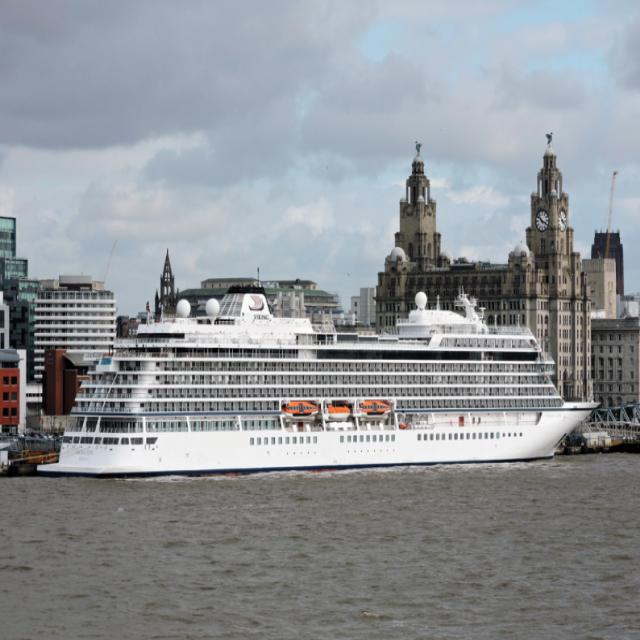cruises: (31, 285, 604, 488)
